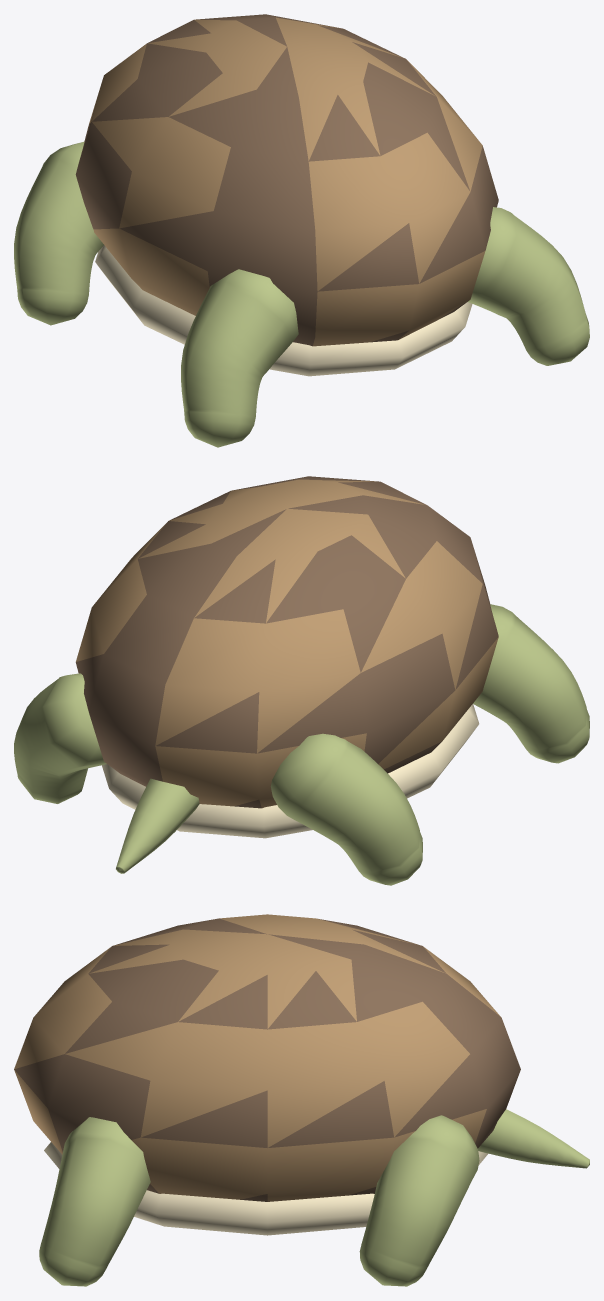
The model's file is reptiles-amphibians-and-minibeasts-tortoise-head-in-c7dbe0a9__22445.glb.
3 renders of one model, top to bottom at view 1: azimuth 30°, elevation 25°; view 2: azimuth 150°, elevation 25°; view 3: azimuth 270°, elevation 25°, orthographic. The views are drawn at different scales.
Parts seen in each view (by area): view 1: tortoise-head-in; view 2: tortoise-head-in; view 3: tortoise-head-in.
Boxes of the visible parts, left/top/right/bottom form: tortoise-head-in: left=14, top=14, right=589, bottom=447; tortoise-head-in: left=14, top=476, right=589, bottom=885; tortoise-head-in: left=14, top=914, right=589, bottom=1286.
Size of the model in its own units: 0.9588 by 0.6514 by 1.25.
